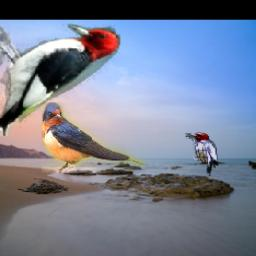Swallow: (40, 102, 144, 173)
Woodpecker: (0, 24, 120, 136), (184, 133, 218, 177)
